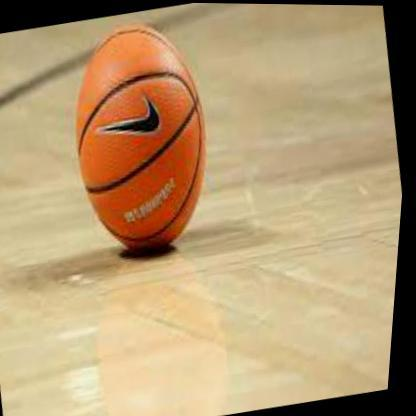basketball: (51, 11, 237, 266)
